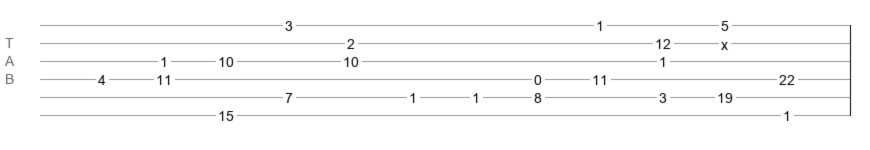0: (534, 72, 542, 82)
1: (160, 54, 168, 64), (409, 90, 417, 100), (472, 90, 480, 100), (596, 18, 604, 28), (659, 54, 667, 64), (783, 108, 791, 118)
10: (218, 54, 234, 64), (343, 54, 359, 64)
11: (156, 72, 172, 82), (592, 72, 608, 82)
12: (655, 36, 671, 46)
15: (218, 108, 234, 118)
19: (717, 90, 733, 100)
2: (347, 36, 355, 46)
22: (779, 72, 795, 82)
3: (285, 18, 293, 28), (659, 90, 667, 100)
4: (98, 72, 106, 82)
5: (721, 18, 729, 28)
7: (285, 90, 293, 100)
8: (534, 90, 542, 100)
x: (721, 37, 728, 45)
